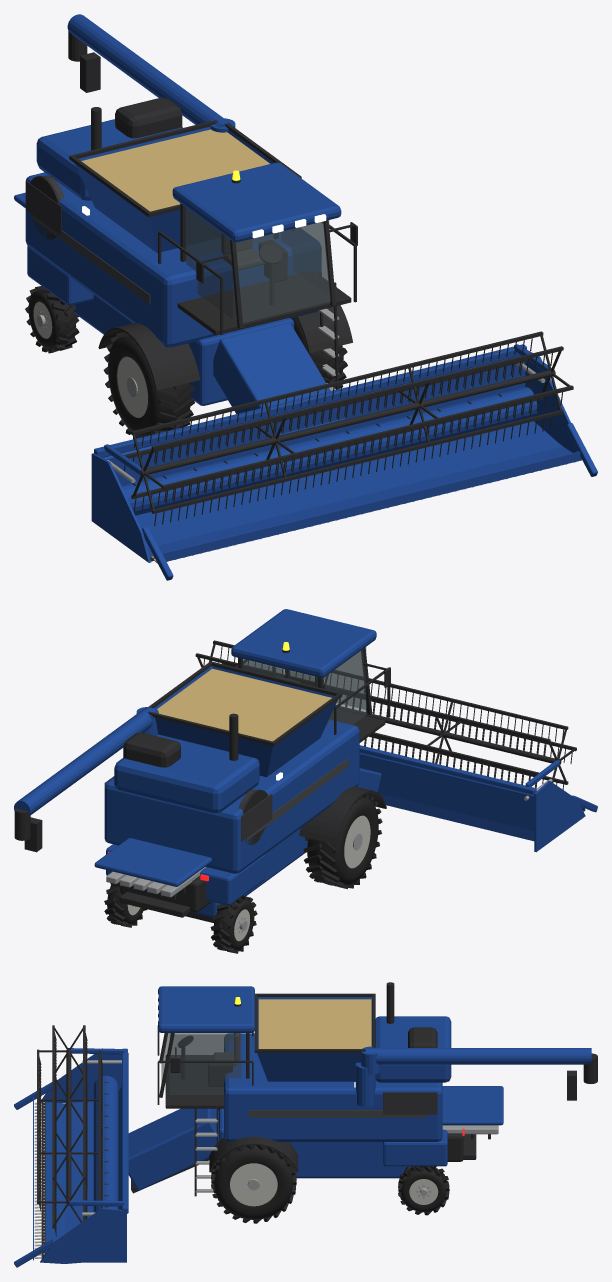
File: cosechadora_nh_cx790.glb
3 renders of one model, top to bottom at view 1: azimuth 30°, elevation 25°; view 2: azimuth 150°, elevation 25°; view 3: azimuth 270°, elevation 25°, orthographic. The views are drawn at different scales.
Parts seen in each view (by area): view 1: carroceria, cabezal, molinete, vidrios, carga, rueda_dd, tubo_descarga, rueda_td, rueda_di; view 2: carroceria, cabezal, molinete, carga, rueda_dd, tubo_descarga, vidrios, rueda_td, rueda_ti; view 3: carroceria, cabezal, carga, molinete, rueda_di, tubo_descarga, vidrios, rueda_ti.
Boxes of the visible parts, <box> form: carroceria: <box>14,52,357,405</box>; cabezal: <box>91,322,597,580</box>; molinete: <box>124,331,573,526</box>; vidrios: <box>186,207,330,322</box>; carga: <box>81,129,269,211</box>; rueda_dd: <box>103,332,194,439</box>; tubo_descarga: <box>67,14,235,132</box>; rueda_td: <box>25,286,79,353</box>; rueda_di: <box>291,317,347,388</box>; carroceria: <box>24,609,390,922</box>; cabezal: <box>357,745,597,852</box>; molinete: <box>195,640,576,789</box>; carga: <box>157,668,331,741</box>; rueda_dd: <box>303,794,382,889</box>; tubo_descarga: <box>14,707,158,840</box>; vidrios: <box>242,647,366,724</box>; rueda_td: <box>210,895,257,953</box>; rueda_ti: <box>104,883,147,927</box>; carroceria: <box>157,982,576,1196</box>; cabezal: <box>14,1048,218,1267</box>; carga: <box>258,999,371,1048</box>; molinete: <box>37,1025,102,1236</box>; rueda_di: <box>211,1145,296,1223</box>; tubo_descarga: <box>361,1046,597,1083</box>; vidrios: <box>161,1033,241,1094</box>; rueda_ti: <box>398,1166,449,1215</box>.
Size of the model in its own units: 7.64 by 4.25 by 11.75.
